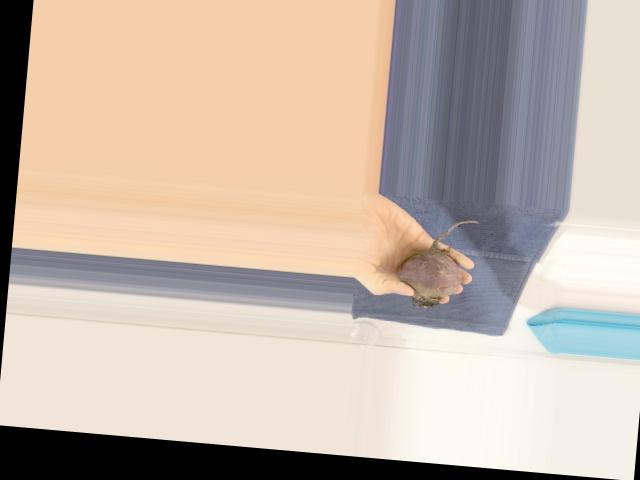beet: (394, 214, 481, 311)
